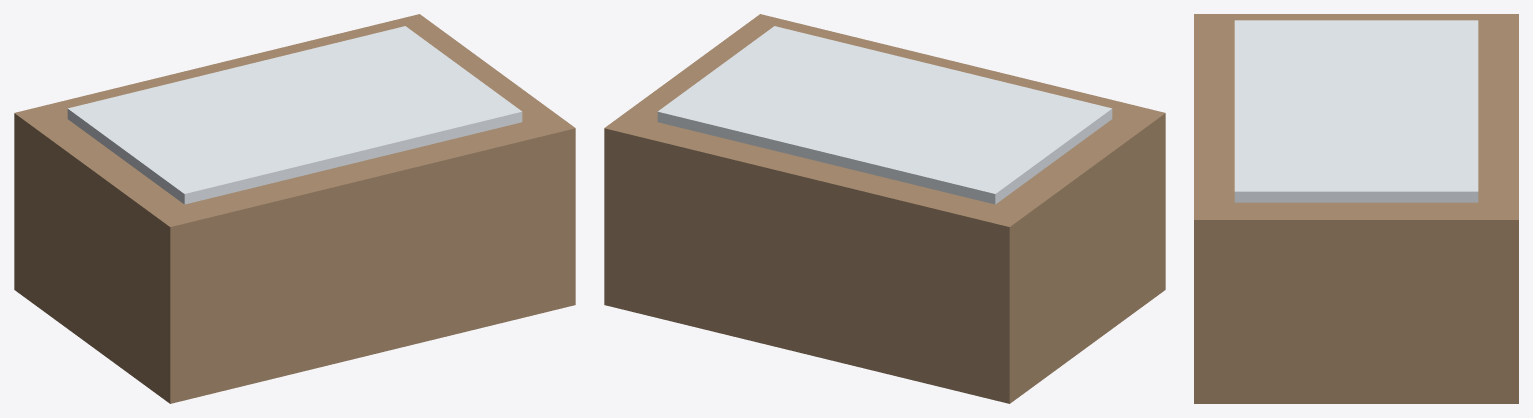
File: fish_crate.glb
3 views of the same model, side by side, from view 1: azimuth 30°, elevation 25°; view 2: azimuth 150°, elevation 25°; view 3: azimuth 270°, elevation 25° (orthographic). The views are drawn at different scales.
Visible parts, largest first — view 1: fishcrate, fishcrate_ice; view 2: fishcrate, fishcrate_ice; view 3: fishcrate, fishcrate_ice.
Boxes of the visible parts, bbox=[...] form: fishcrate: bbox=[14, 14, 575, 403]; fishcrate_ice: bbox=[67, 26, 522, 204]; fishcrate: bbox=[604, 14, 1165, 403]; fishcrate_ice: bbox=[657, 26, 1112, 204]; fishcrate: bbox=[1194, 14, 1518, 403]; fishcrate_ice: bbox=[1234, 20, 1478, 202].
Bounding box in the file's own units: 1.2 × 0.5298 × 0.7998.
